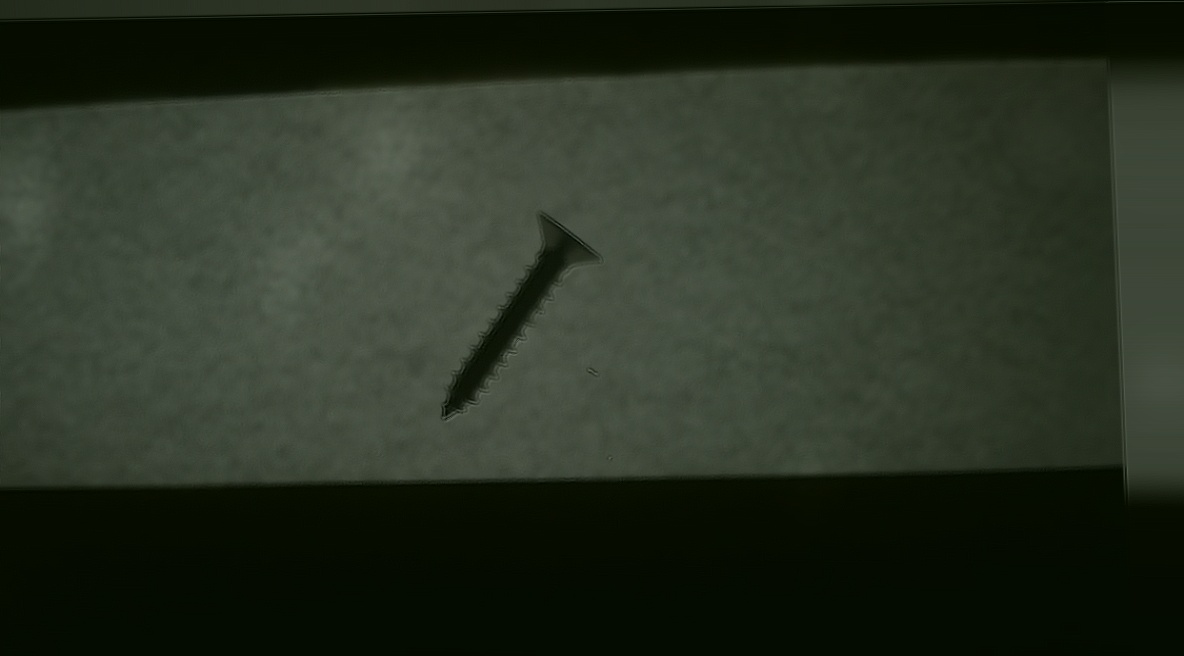S001: (390, 198, 630, 431)
